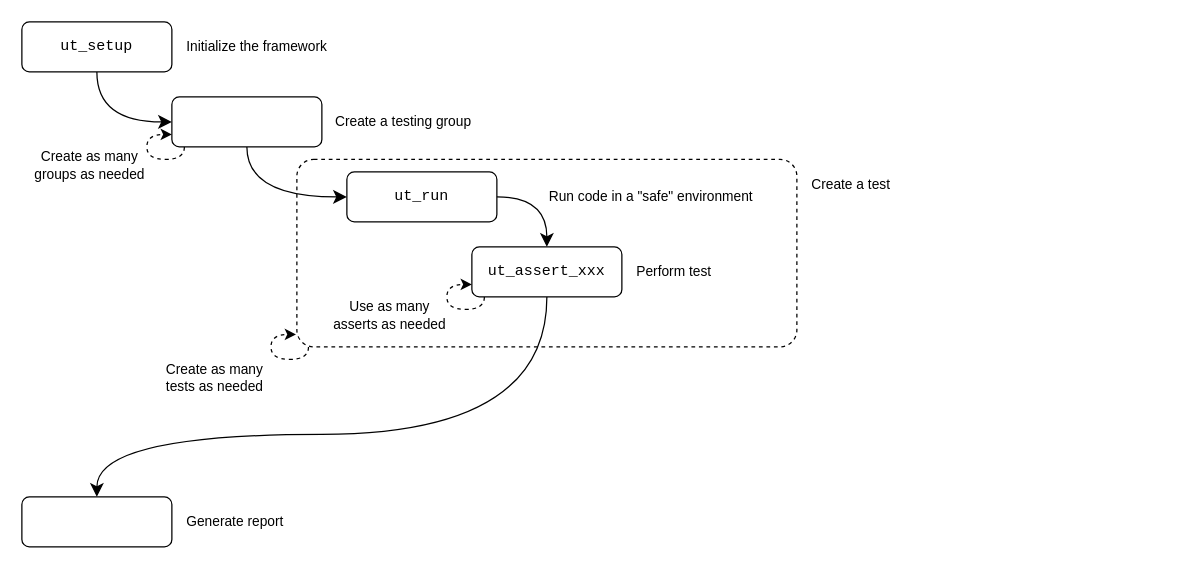
The diagram is 1181 pixels wide and 569 high, and some of its shapes have lost their labels. The centre of each missing label's shape, as x and y in pixels:
ut_grp_init: pixel 246 121
ut_report: pixel 96 521
